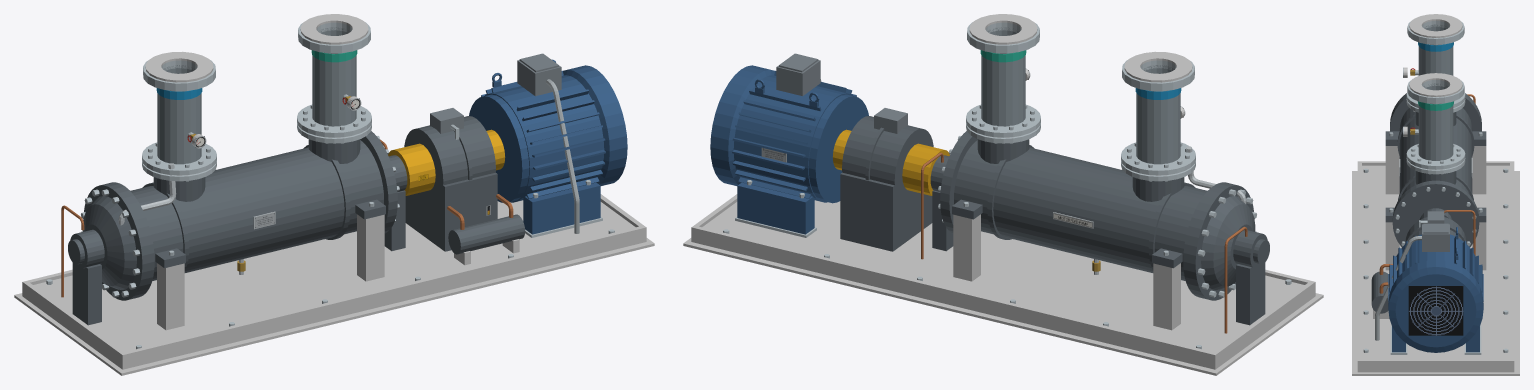
Rendered from inventory.obj.
3 views of the same model, side by side, from view 1: azimuth 30°, elevation 25°; view 2: azimuth 150°, elevation 25°; view 3: azimuth 270°, elevation 25° (orthographic). The views are drawn at different scales.
Size of the model in its own units: 0.9 by 0.3924 by 0.314.
